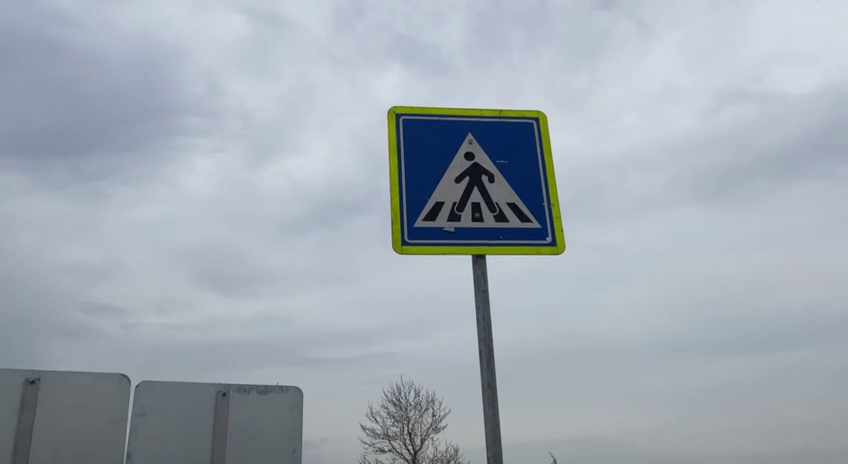pedestrianCrossing: (385, 100, 568, 260)
